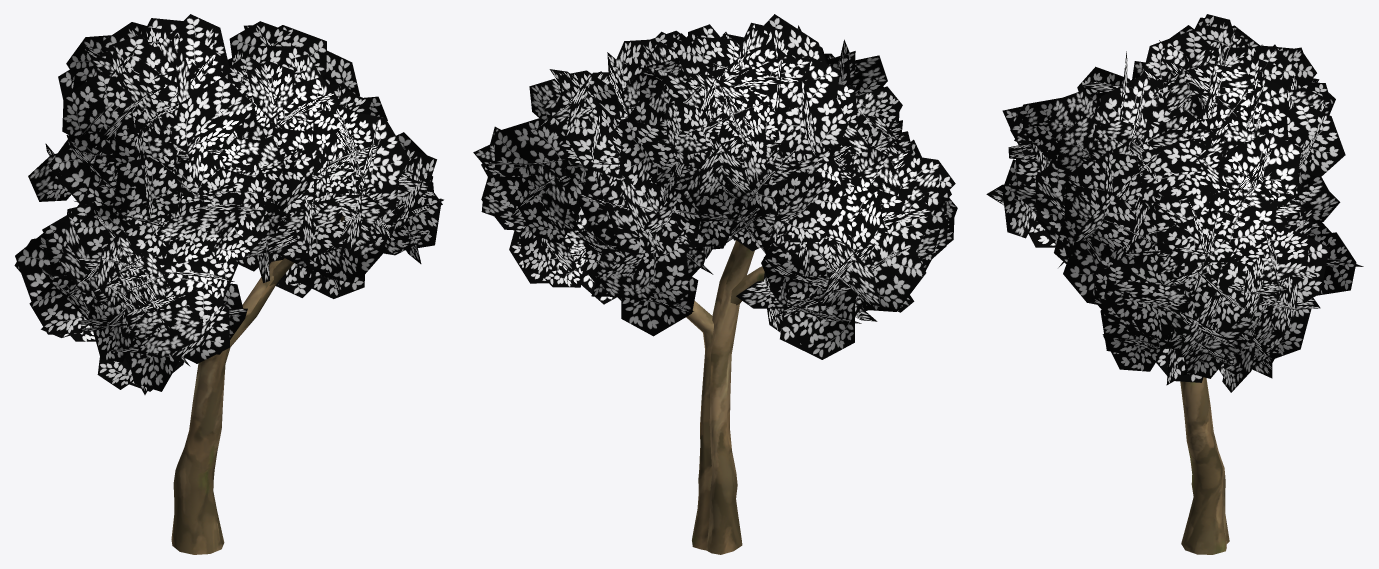
Rendered from P_OakTreeLarge2.obj.
3 renders of one model, left to right at view 1: azimuth 30°, elevation 25°; view 2: azimuth 150°, elevation 25°; view 3: azimuth 270°, elevation 25°, orthographic. The views are drawn at different scales.
Size of the model in its own units: 23.9 by 28.74 by 19.55.
